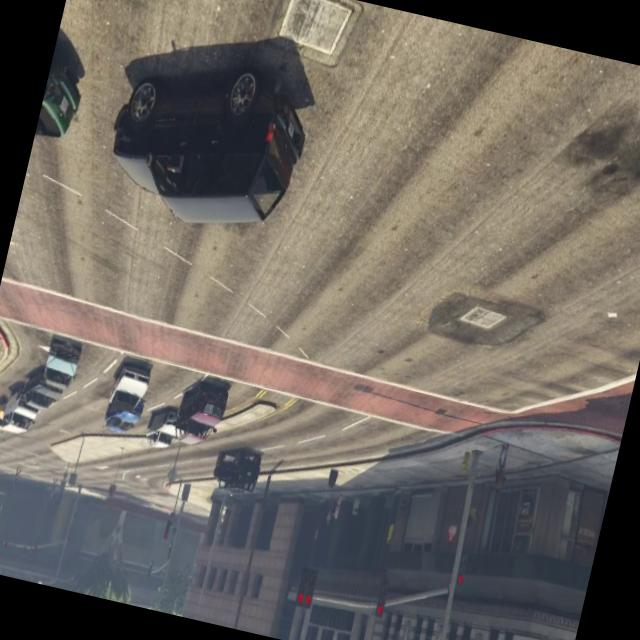Red-Signal: (288, 554, 326, 616), (368, 566, 398, 626), (452, 542, 476, 590)
